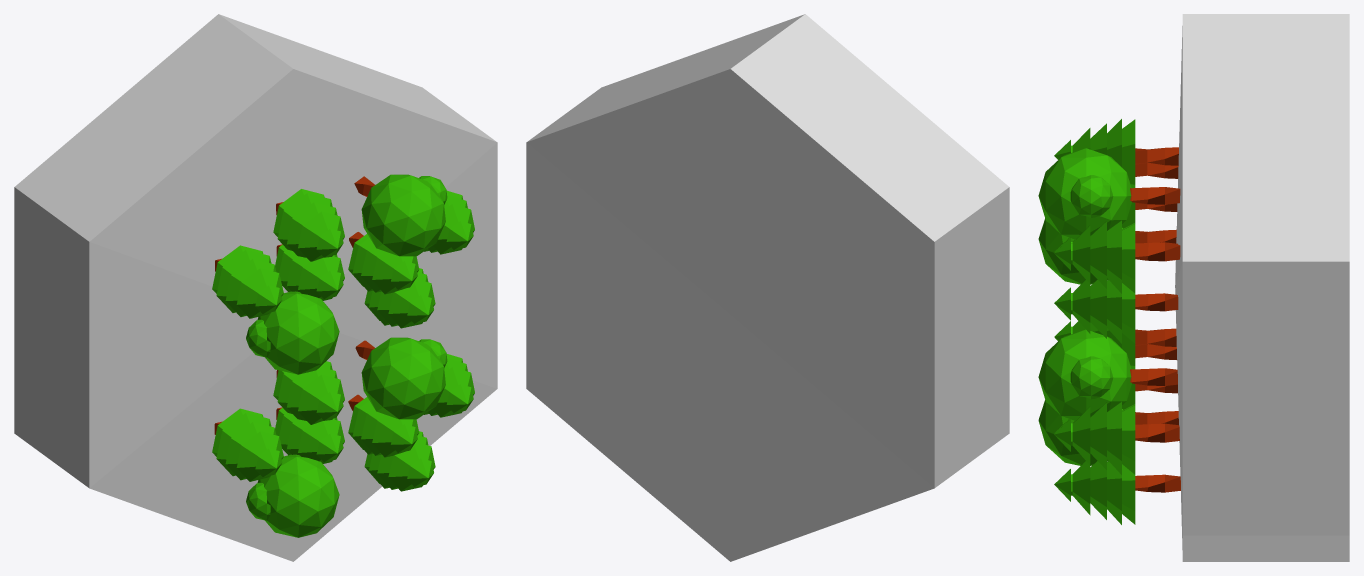
File: low_polly_island.glb
The picture shows the model from 3 angles, left to right: view 1: azimuth 30°, elevation 25°; view 2: azimuth 150°, elevation 25°; view 3: azimuth 270°, elevation 25°; orthographic projection. The views are drawn at different scales.
Visible parts, largest first — view 1: Circle, Icosphere.003, Icosphere.002, Icosphere.001, Icosphere.004, Circle.012, Circle.001, Circle.003, Circle.010, Circle.008, Circle.005, Circle.002 (+5 smaller); view 2: Circle; view 3: Circle, Icosphere.002, Icosphere.003, Circle.007, Circle.006, Circle.009, Circle.004, Circle.003, Icosphere.004, Icosphere.001, Cube.007, Cube.008 (+11 smaller).
Boxes of the visible parts, bbox=[...] form: Circle: bbox=[14, 14, 497, 561]; Icosphere.003: bbox=[361, 337, 447, 419]; Icosphere.002: bbox=[361, 174, 447, 256]; Icosphere.001: bbox=[246, 291, 339, 374]; Icosphere.004: bbox=[246, 454, 339, 537]; Circle.012: bbox=[212, 408, 283, 481]; Circle.001: bbox=[212, 245, 283, 318]; Circle.003: bbox=[273, 189, 344, 261]; Circle.010: bbox=[273, 361, 344, 424]; Circle.008: bbox=[348, 397, 419, 457]; Circle.005: bbox=[348, 234, 419, 294]; Circle.002: bbox=[275, 244, 344, 300]; Circle: bbox=[526, 14, 1009, 561]; Circle: bbox=[1175, 14, 1349, 561]; Icosphere.002: bbox=[1038, 148, 1131, 239]; Icosphere.003: bbox=[1038, 329, 1131, 420]; Circle.007: bbox=[1054, 401, 1135, 474]; Circle.006: bbox=[1054, 220, 1135, 293]; Circle.009: bbox=[1054, 461, 1135, 524]; Circle.004: bbox=[1054, 279, 1135, 343]; Circle.003: bbox=[1054, 119, 1135, 184]; Icosphere.004: bbox=[1038, 400, 1122, 465]; Icosphere.001: bbox=[1038, 218, 1122, 284]; Cube.007: bbox=[1130, 187, 1180, 204]; Cube.008: bbox=[1130, 368, 1177, 385].
Bounding box in the file's own units: 24.49 × 28.28 × 14.55.
